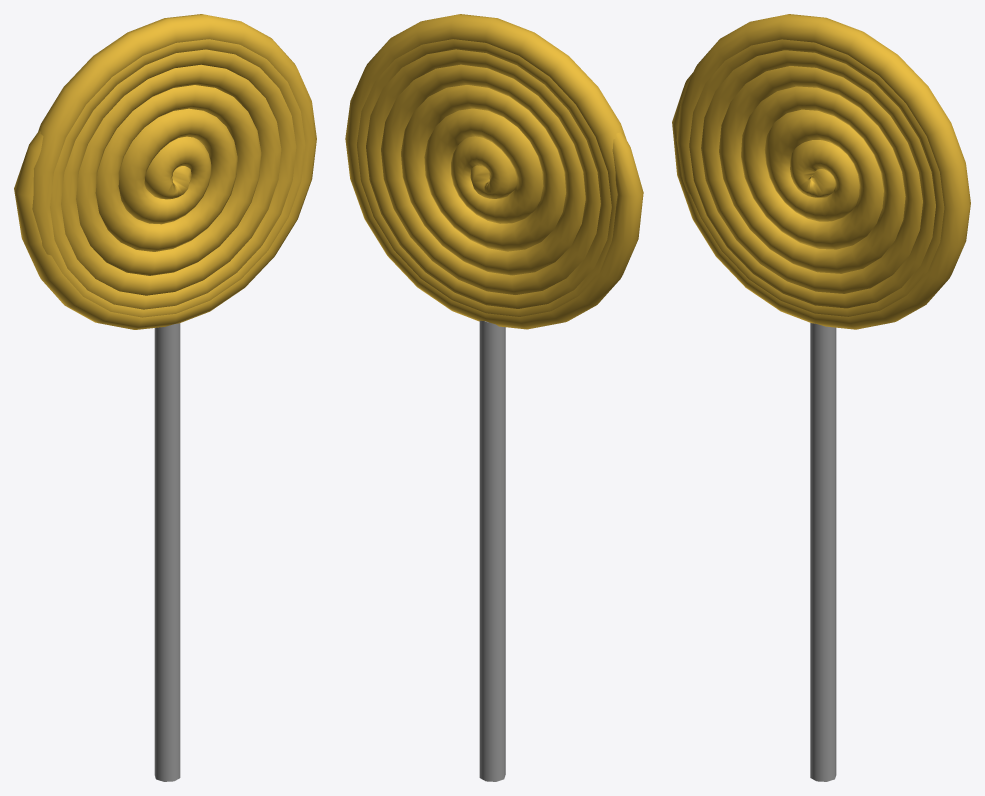
Rendered from lolipop_spiral_2.fbx.
3 views of the same model, side by side, from view 1: azimuth 30°, elevation 25°; view 2: azimuth 150°, elevation 25°; view 3: azimuth 330°, elevation 25° (orthographic).
Visible parts, largest first — view 1: Lolipop_Spiral_2; view 2: Lolipop_Spiral_2; view 3: Lolipop_Spiral_2.
Boxes of the visible parts, left/top/right/bottom form: Lolipop_Spiral_2: left=14, top=14, right=316, bottom=781; Lolipop_Spiral_2: left=345, top=14, right=643, bottom=781; Lolipop_Spiral_2: left=672, top=14, right=970, bottom=781.
Bounding box in the file's own units: 314 × 767 × 40.91.
